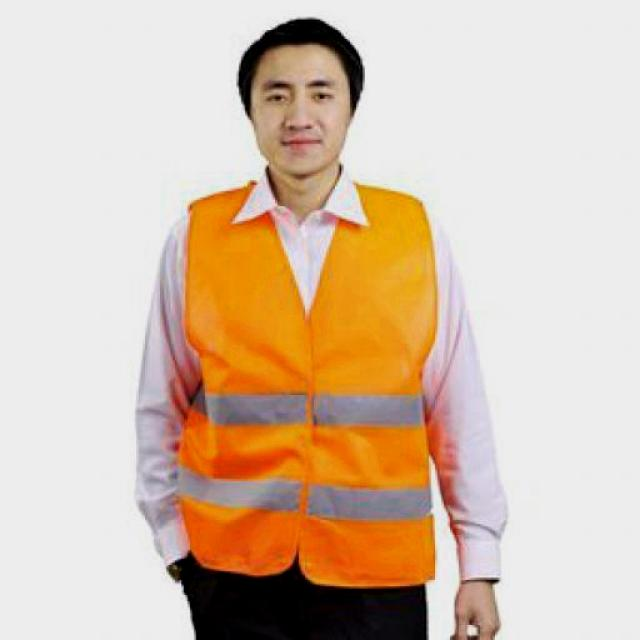face_nomask: (245, 70, 343, 166)
head_nohelmet: (236, 11, 372, 75)
person: (128, 9, 511, 640)
vest: (175, 182, 437, 582)
